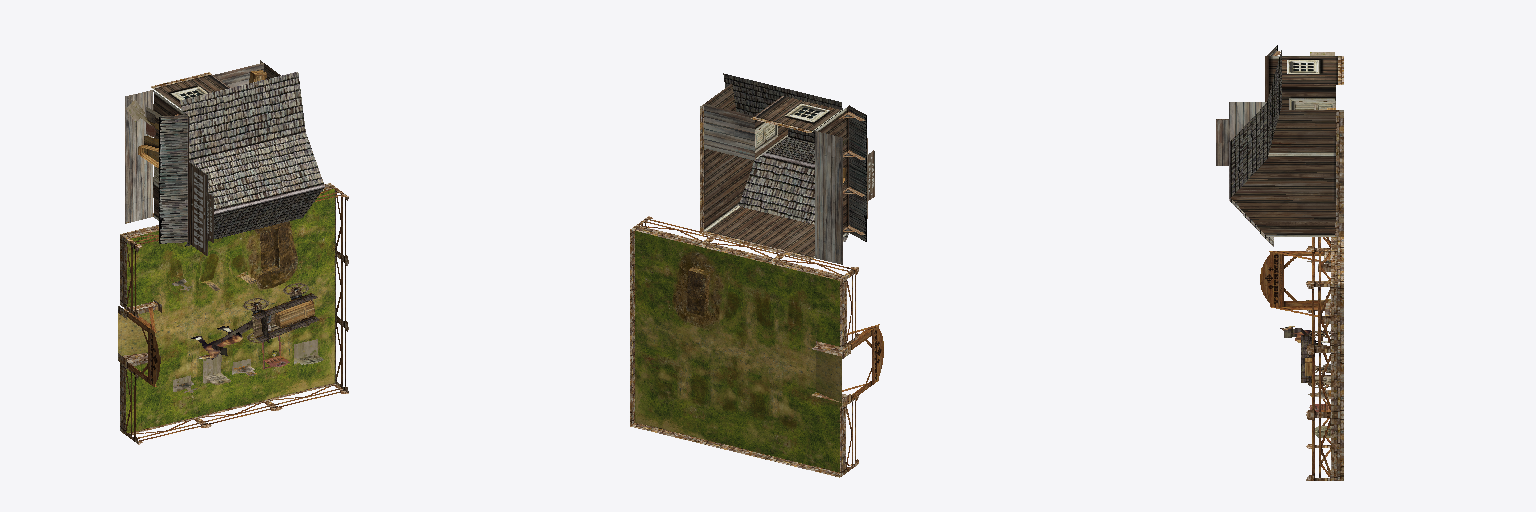
The picture shows the model from 3 angles: view 1: azimuth 30°, elevation 25°; view 2: azimuth 150°, elevation 25°; view 3: azimuth 270°, elevation 25°; orthographic projection.
Bounding box in the file's own units: 192 × 299 × 100.
1 materials, 1 textured.